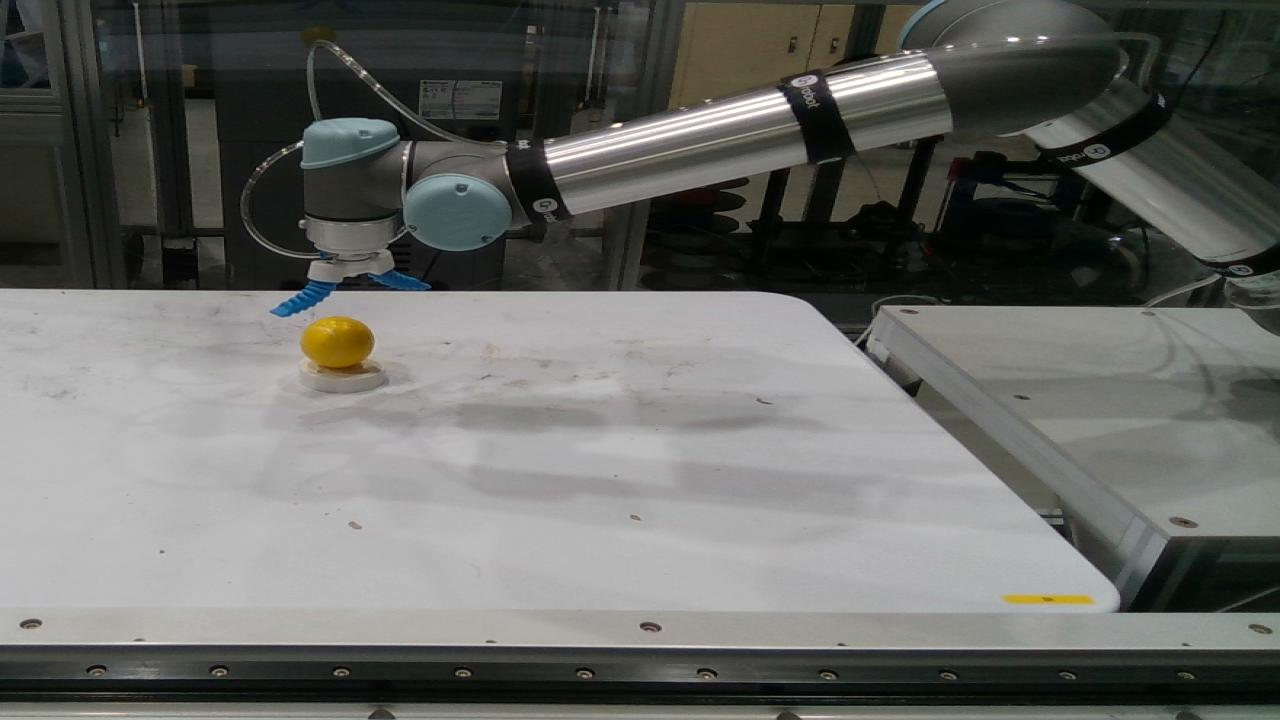UR5: (301, 0, 1279, 335)
gripper_left: (368, 268, 433, 291)
gripper_right: (270, 280, 340, 318)
target: (299, 350, 387, 393), (301, 316, 375, 367)
